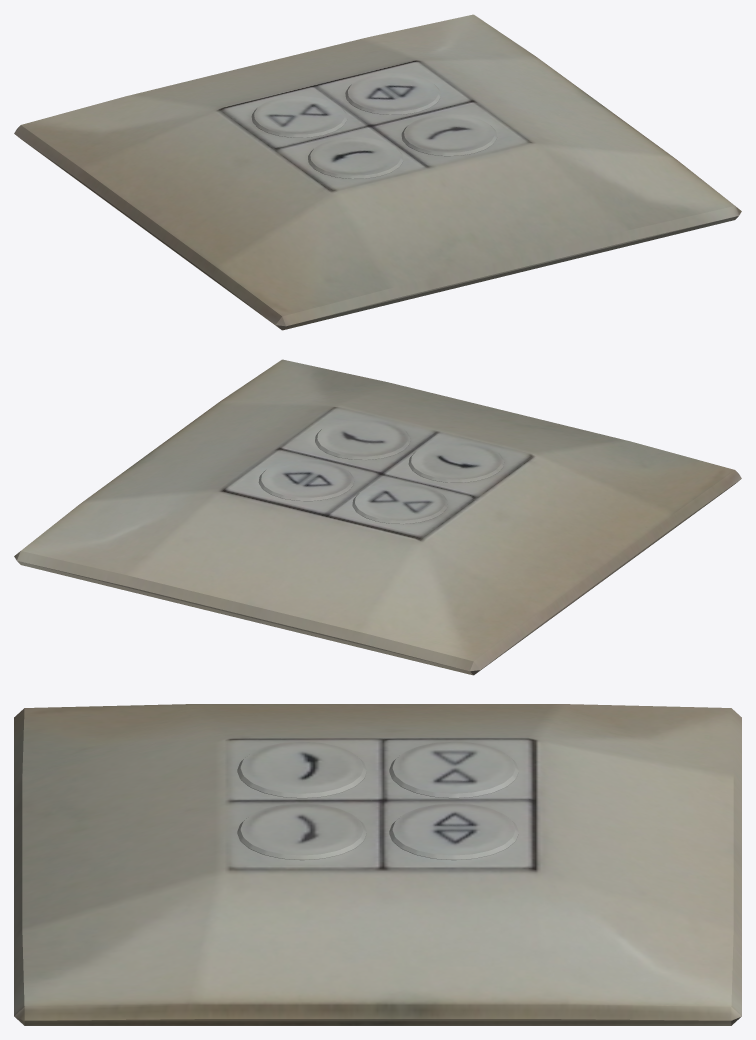
The model's file is kotakt_rolety.fbx.
The picture shows the model from 3 angles, top to bottom: view 1: azimuth 30°, elevation 25°; view 2: azimuth 150°, elevation 25°; view 3: azimuth 270°, elevation 25°; orthographic projection. The views are drawn at different scales.
Visible parts, largest first — view 1: sama_sala:pasted__pCylinder1; view 2: sama_sala:pasted__pCylinder1; view 3: sama_sala:pasted__pCylinder1.
Part boxes in pixels (box(x1,y1,x2,y2)): sama_sala:pasted__pCylinder1: box(14, 14, 741, 330); sama_sala:pasted__pCylinder1: box(14, 359, 741, 675); sama_sala:pasted__pCylinder1: box(14, 704, 741, 1025).
Size of the model in its own units: 33.09 by 3.79 by 33.09.
